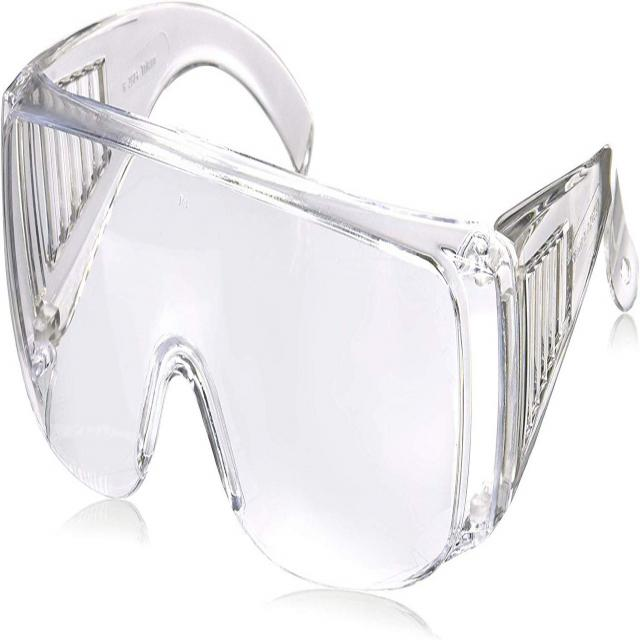Protective Glasses: (4, 0, 638, 598)
